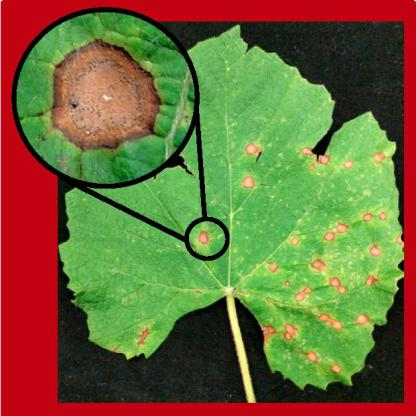grape leaf black rot: (227, 31, 403, 392)
